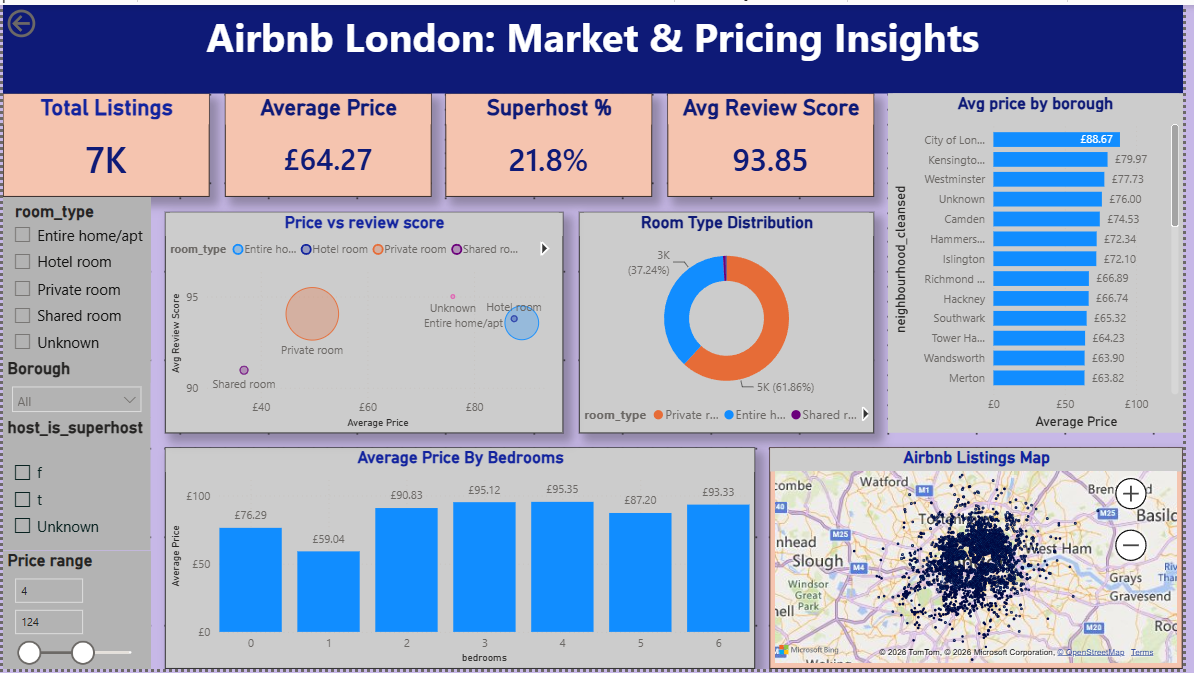

The dashboard page shown, as its layout file describes it:
{"tool":"powerbi","page":{"name":"Market Overview","canvas":[1280,720],"ordinal":0},"visuals":[{"type":"clusteredBarChart","title":"Top 10 Neighbourhoods by Average Price","fields":{"Category":["dim_neighbourhood.neighbourhood_cleansed"],"Y":["dim_date.Average Price"]},"box":[192,224,368,224],"z":0},{"type":"slicer","title":"room_type","fields":{"Values":["dim_room_type.room_type"]},"box":[0,224,176,192],"z":1000},{"type":"textbox","box":[0,0,1280,64],"z":2000},{"type":"textbox","box":[0,64,1280,48],"z":3000},{"type":"cardVisual","title":"Total Listings","fields":{"Data":["dim_date.Total Listings"]},"box":[352,112,160,112],"z":4000},{"type":"cardVisual","title":"Average Price","fields":{"Data":["dim_date.Average Price"]},"box":[528,112,208,112],"z":5000},{"type":"cardVisual","title":"Total Hosts","fields":{"Data":["dim_date.Total Hosts"]},"box":[768,112,144,112],"z":6000},{"type":"cardVisual","title":"Average Rating","fields":{"Data":["dim_date.Average Rating"]},"box":[928,112,176,112],"z":7000},{"type":"cardVisual","title":"Total Reviews","fields":{"Data":["dim_date.Total Reviews"]},"box":[1120,112,160,112],"z":8000},{"type":"donutChart","title":"Room Type Distribution","fields":{"Category":["dim_room_type.room_type"],"Y":["dim_date.Total Listings"]},"box":[848,464,432,256],"z":9000},{"type":"clusteredColumnChart","title":"Price Distribution","fields":{"Category":["fact_listings.price (bins)"],"Y":["dim_date.Total Listings"]},"box":[192,464,640,256],"z":10000},{"type":"scatterChart","title":"Price vs Review Volume","fields":{"X":["fact_listings.number_of_reviews"],"Y":["fact_listings.price"]},"box":[576,224,368,224],"z":11000},{"type":"map","title":"Airbnb Listings Map","fields":{"Y":["fact_listings.latitude"],"X":["fact_listings.longitude"]},"box":[960,224,320,224],"z":12000},{"type":"slicer","title":"Neighbourhood","fields":{"Values":["dim_neighbourhood.neighbourhood_cleansed"]},"box":[0,112,176,112],"z":13000},{"type":"slicer","title":"Property Type","fields":{"Values":["fact_listings.property_type"]},"box":[192,112,160,112],"z":14000},{"type":"slicer","title":"Superhost Status","fields":{"Values":["fact_listings.host_is_superhost"]},"box":[0,528,176,96],"z":15000},{"type":"slicer","title":"Price Range","fields":{"Values":["fact_listings.price"]},"box":[16,416,176,112],"z":16000},{"type":"slicer","fields":{"Values":["fact_listings.instant_bookable"]},"box":[0,624,176,96],"z":17000},{"type":"pageNavigator","box":[736,0,544,48],"z":18000}]}

Visuals, with their boxes in screenshot pixels (x1, y1, x2, y2), scaled from the page's 1280x720 canvas onto the 1194x673 screenshot:
"Top 10 Neighbourhoods by Average Price" clusteredBarChart: l=179, t=209, r=522, b=419
"room_type" slicer: l=0, t=209, r=164, b=389
textbox: l=0, t=0, r=1193, b=60
textbox: l=0, t=60, r=1193, b=105
"Total Listings" cardVisual: l=328, t=105, r=478, b=209
"Average Price" cardVisual: l=493, t=105, r=687, b=209
"Total Hosts" cardVisual: l=716, t=105, r=851, b=209
"Average Rating" cardVisual: l=866, t=105, r=1030, b=209
"Total Reviews" cardVisual: l=1045, t=105, r=1193, b=209
"Room Type Distribution" donutChart: l=791, t=434, r=1193, b=672
"Price Distribution" clusteredColumnChart: l=179, t=434, r=776, b=672
"Price vs Review Volume" scatterChart: l=537, t=209, r=881, b=419
"Airbnb Listings Map" map: l=896, t=209, r=1193, b=419
"Neighbourhood" slicer: l=0, t=105, r=164, b=209
"Property Type" slicer: l=179, t=105, r=328, b=209
"Superhost Status" slicer: l=0, t=494, r=164, b=583
"Price Range" slicer: l=15, t=389, r=179, b=494
slicer - fact_listings.instant_bookable: l=0, t=583, r=164, b=672
pageNavigator: l=687, t=0, r=1193, b=45
